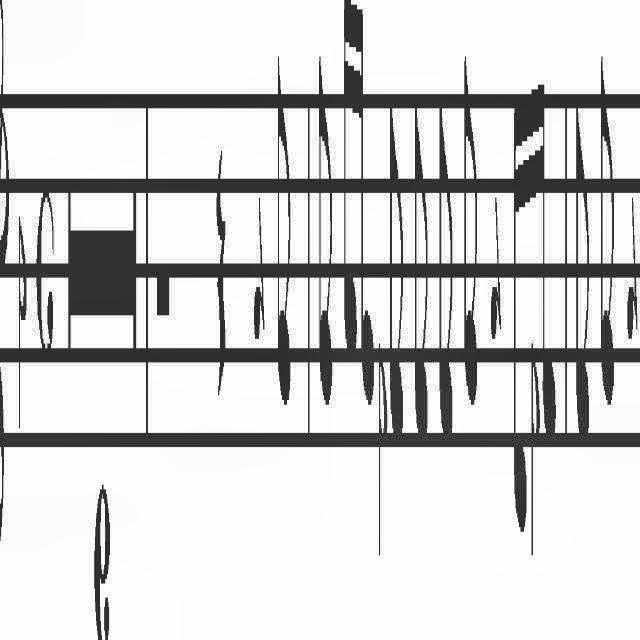Bass-clef: (0, 1, 12, 604)
Bemol: (16, 203, 30, 449), (374, 336, 388, 580), (528, 344, 540, 584)
Eighth-note: (273, 46, 295, 428), (572, 48, 592, 468), (410, 79, 430, 477), (599, 44, 619, 440), (462, 45, 480, 423), (388, 80, 404, 460), (438, 88, 454, 468), (316, 56, 332, 420)
Eighth-rest: (252, 159, 268, 377), (624, 174, 640, 386), (490, 165, 502, 371)
Quarter-rest: (212, 66, 226, 426)
Sixteenth-note: (509, 65, 527, 557), (358, 0, 376, 424), (541, 41, 557, 477), (342, 0, 357, 380)
